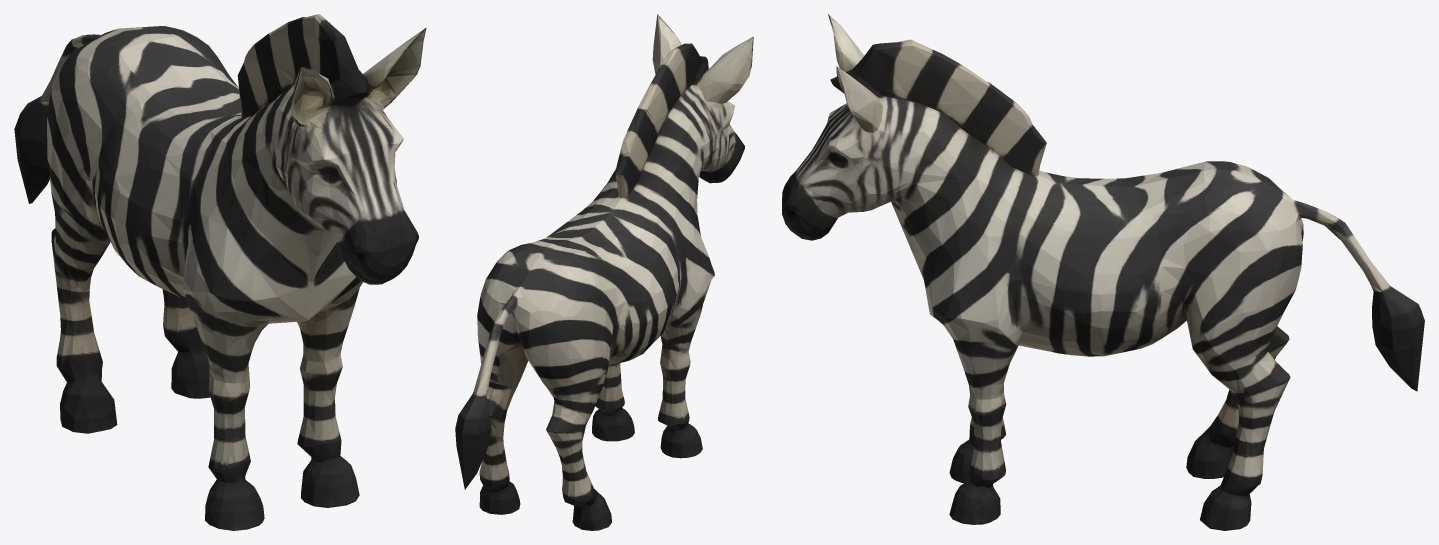
Rendered from zebra.glb.
3 views of the same model, side by side, from view 1: azimuth 30°, elevation 25°; view 2: azimuth 150°, elevation 25°; view 3: azimuth 270°, elevation 25° (orthographic). The views are drawn at different scales.
Parts seen in each view (by area): view 1: world; view 2: world; view 3: world.
Boxes of the visible parts, x1,y1,x2,y2 form: world: (14, 14, 426, 530); world: (455, 14, 753, 530); world: (782, 14, 1424, 530).
Bounding box in the file's own units: 0.2941 × 0.7806 × 0.9975.
1 material, 1 textured.
